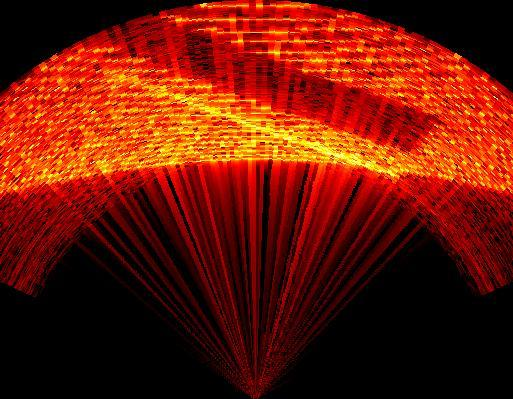pipe: (79, 17, 446, 182)
